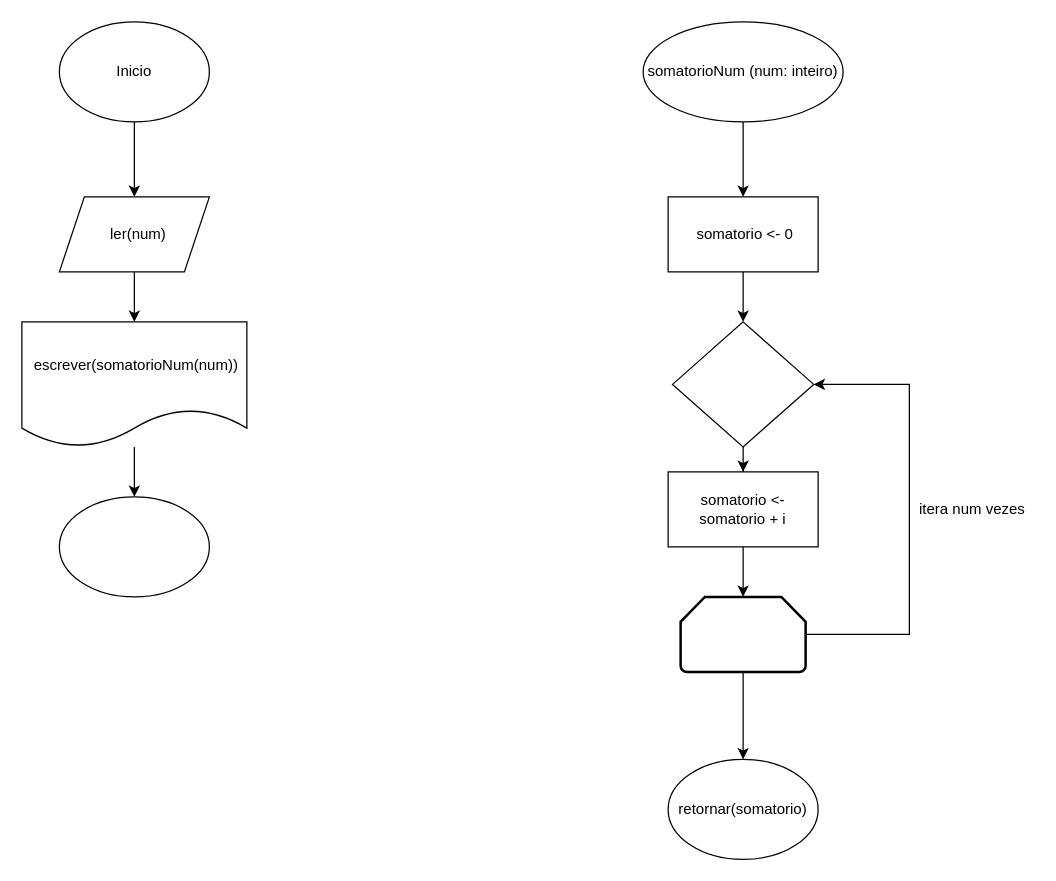
Some shapes in this 1056 by 881 pixel diagram are drawn without their labels. Here are the shapes that lost their labels. From the top down, the centre of each, then its label:
[742,384]: i <- 1
[133,546]: Fim
[742,633]: fim-para-fazer
